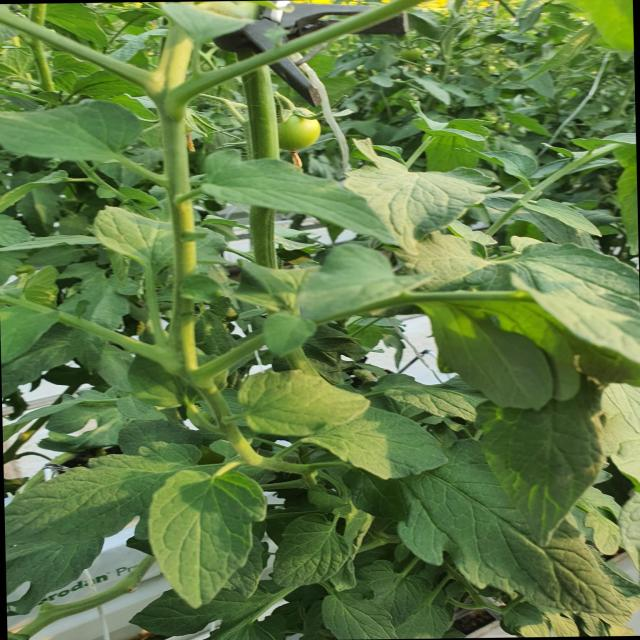Healthy Leaf: (401, 423, 629, 624), (196, 142, 414, 258), (148, 449, 276, 615), (0, 82, 141, 197), (227, 362, 378, 443), (279, 507, 362, 587)
